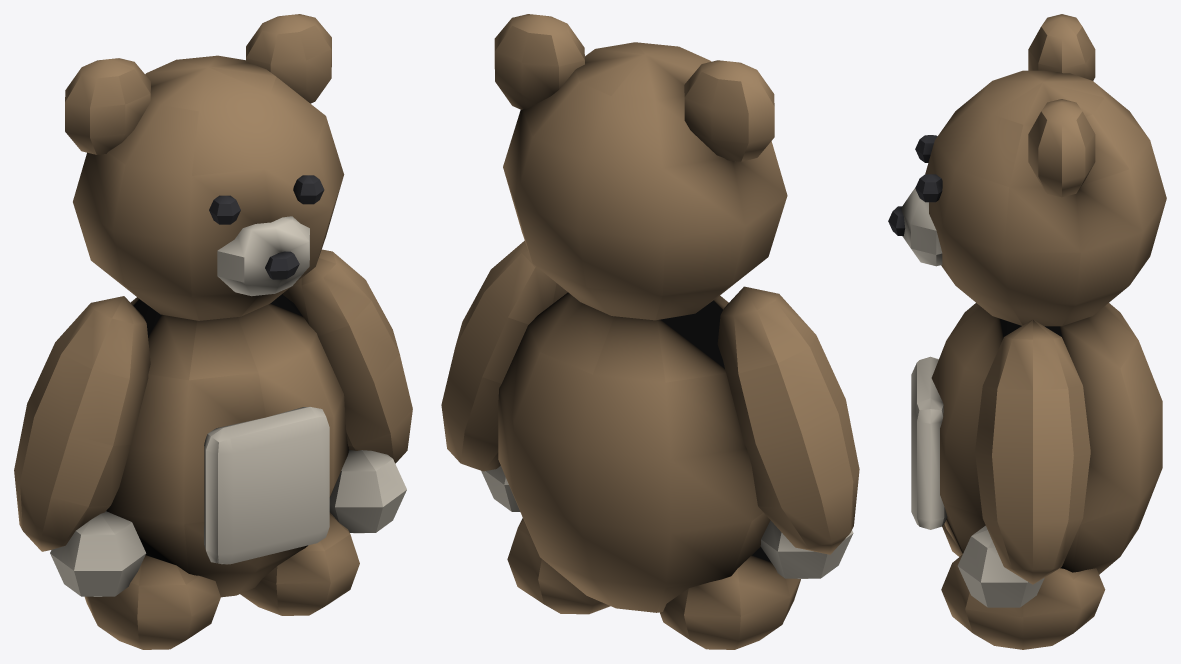
File: teddy_bear.glb
3 views of the same model, side by side, from view 1: azimuth 30°, elevation 25°; view 2: azimuth 150°, elevation 25°; view 3: azimuth 270°, elevation 25° (orthographic). The views are drawn at different scales.
Parts seen in each view (by area): view 1: teddy_bear; view 2: teddy_bear; view 3: teddy_bear.
Part boxes in pixels (x1,y1,x2,y2): teddy_bear: (14,14,412,649); teddy_bear: (441,14,859,649); teddy_bear: (888,14,1166,649).
Size of the model in its own units: 0.2225 by 0.3146 by 0.1444.
